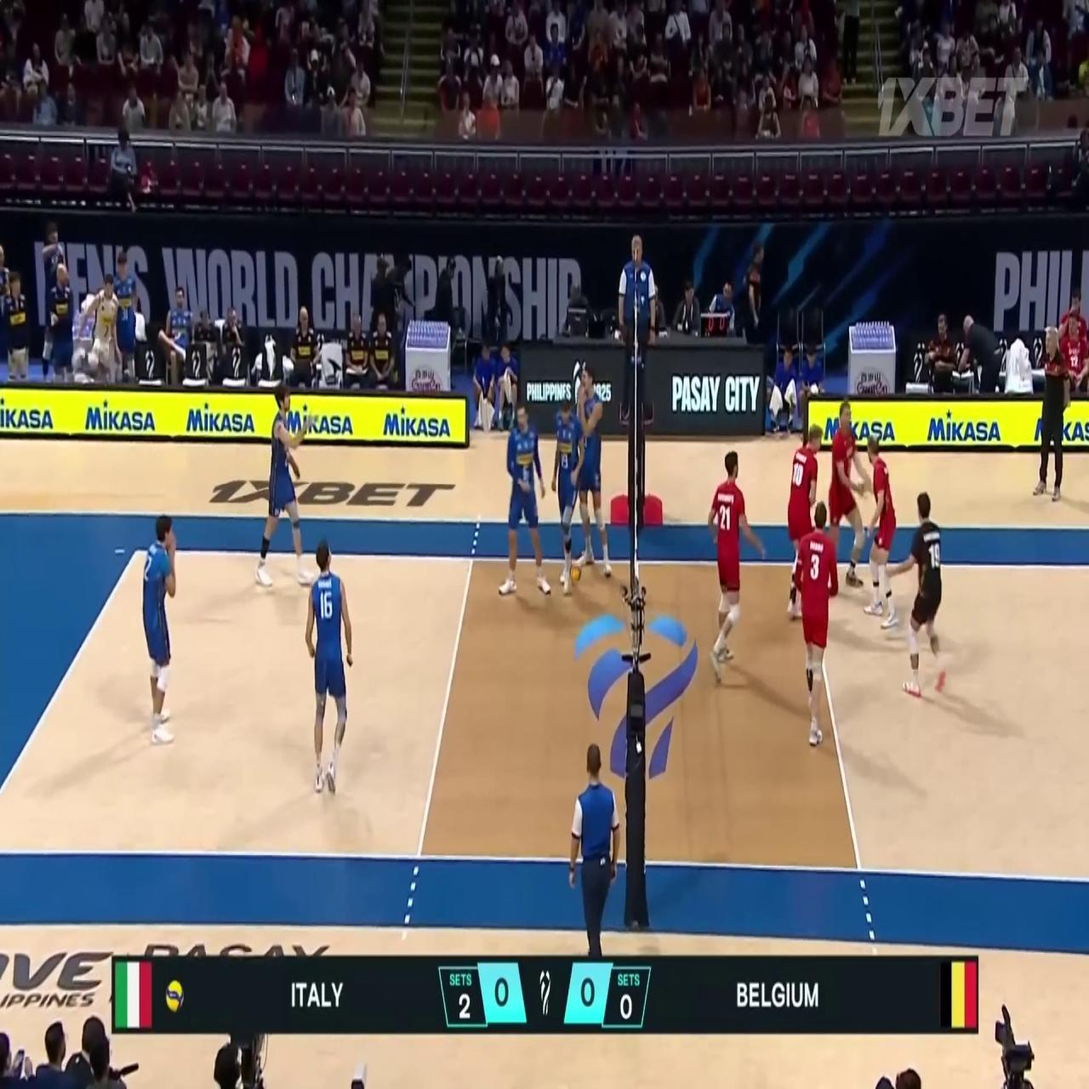ball: (569, 562, 583, 587)
